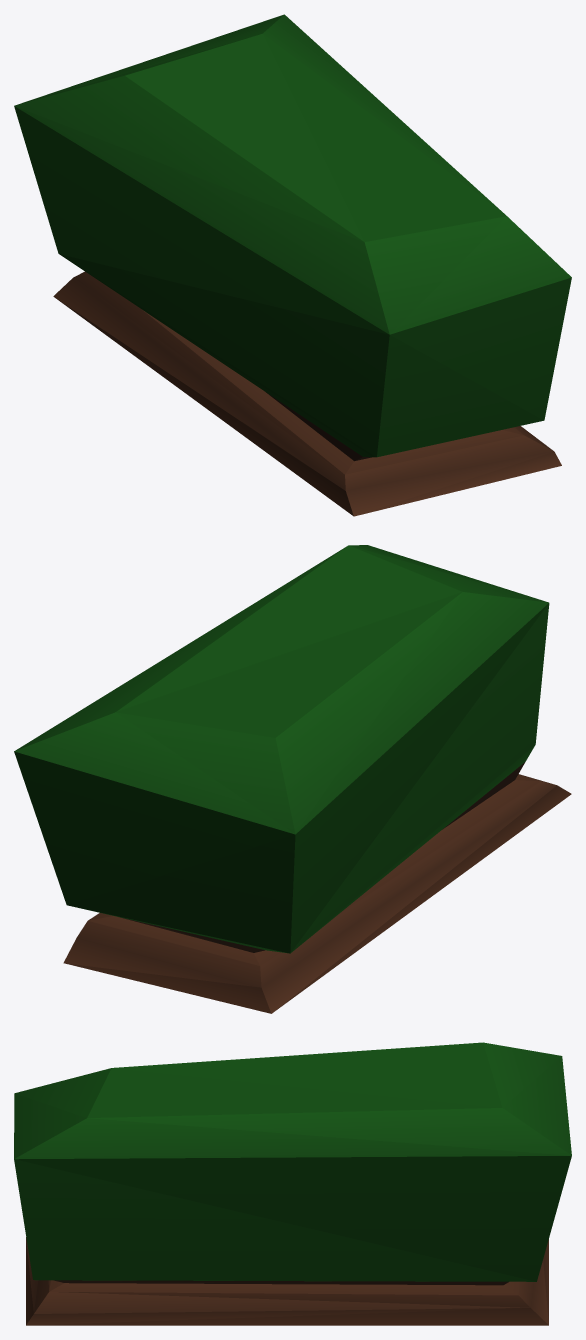
File: c_hedge_rect_aa.fbx
3 views of the same model, one above another, from view 1: azimuth 30°, elevation 25°; view 2: azimuth 150°, elevation 25°; view 3: azimuth 270°, elevation 25° (orthographic). The views are drawn at different scales.
Parts seen in each view (by area): view 1: c_hedge_rect_aa; view 2: c_hedge_rect_aa; view 3: c_hedge_rect_aa.
Part boxes in pixels (left/top/right/bottom): c_hedge_rect_aa: left=14, top=14, right=571, bottom=516; c_hedge_rect_aa: left=14, top=545, right=571, bottom=1013; c_hedge_rect_aa: left=14, top=1042, right=571, bottom=1325.
Bounding box in the file's own units: 1.38 × 1.15 × 2.78.
